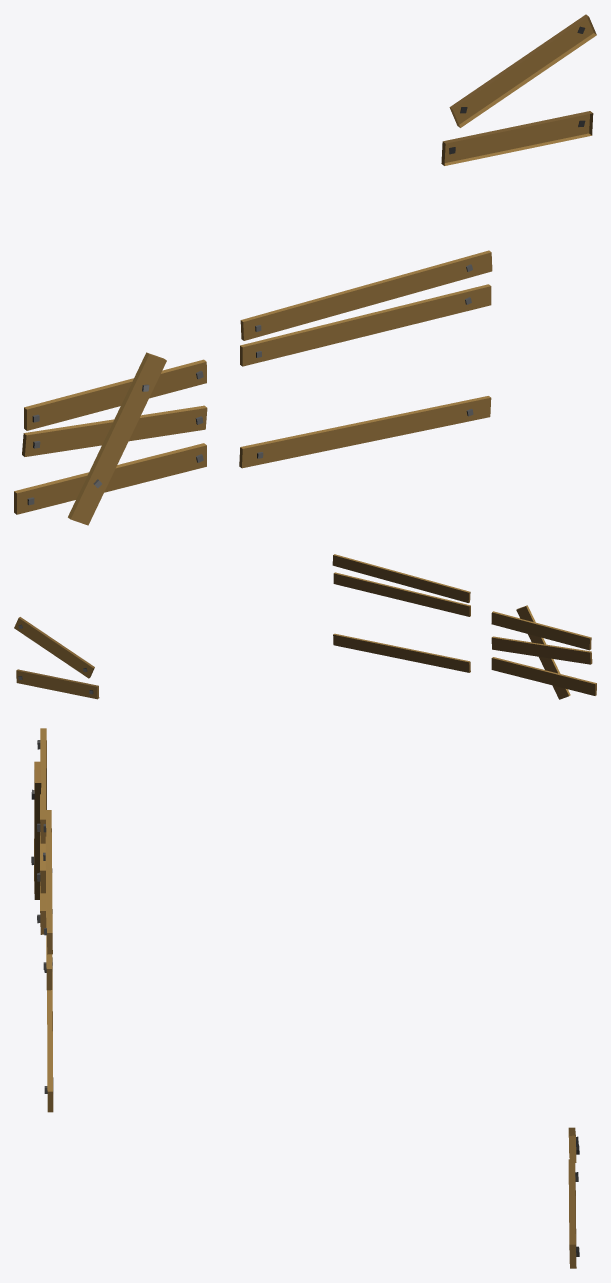
The model's file is SA_Bld_AutoRepair_Extras_01.gltf.
The picture shows the model from 3 angles, top to bottom: view 1: azimuth 30°, elevation 25°; view 2: azimuth 150°, elevation 25°; view 3: azimuth 270°, elevation 25°; orthographic projection. The views are drawn at different scales.
Parts seen in each view (by area): view 1: SA_Bld_AutoRepair_Extras_01; view 2: SA_Bld_AutoRepair_Extras_01; view 3: SA_Bld_AutoRepair_Extras_01.
Part boxes in pixels (box(x1,y1,x2,y2)): SA_Bld_AutoRepair_Extras_01: box(14, 14, 596, 525); SA_Bld_AutoRepair_Extras_01: box(14, 554, 596, 699); SA_Bld_AutoRepair_Extras_01: box(31, 728, 579, 1268).
Size of the model in its own units: 17.31 by 3.41 by 9.16.
1 material, 1 textured.
